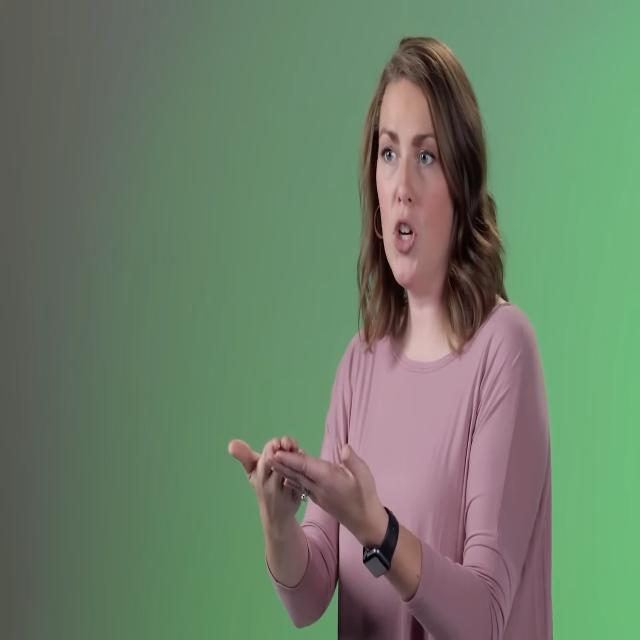bad: (213, 406, 401, 549)
